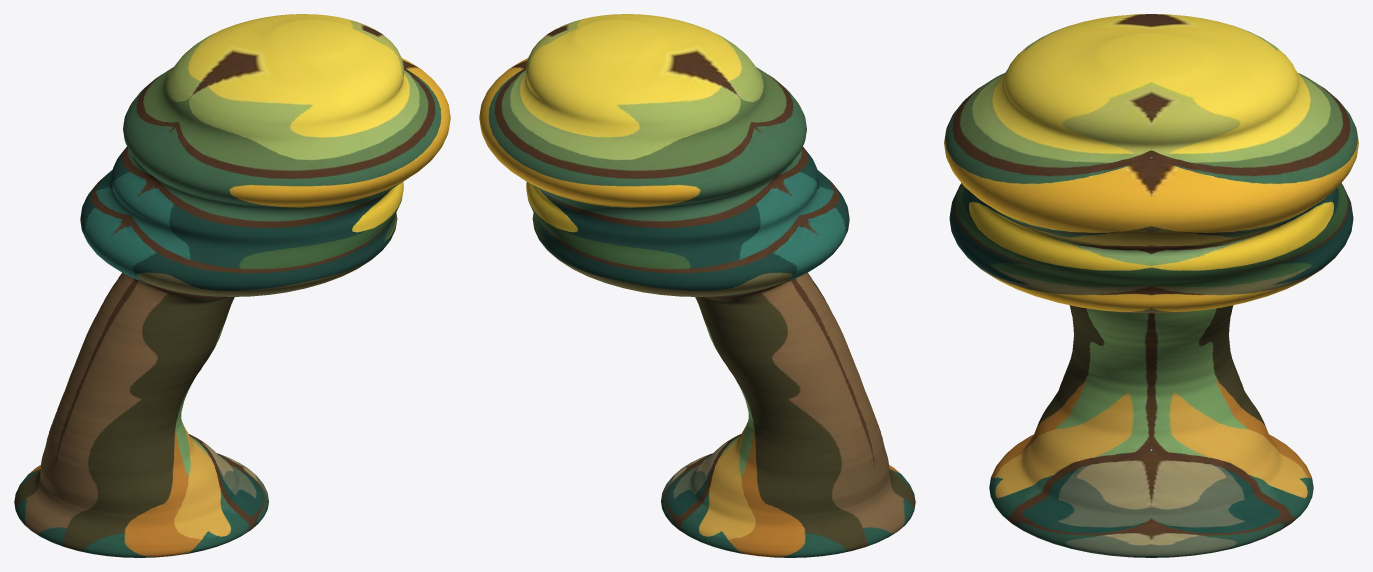
Rendered from stacked_cap_tree.glb.
3 renders of one model, left to right at view 1: azimuth 30°, elevation 25°; view 2: azimuth 150°, elevation 25°; view 3: azimuth 270°, elevation 25°, orthographic. The views are drawn at different scales.
Parts seen in each view (by area): view 1: stacked_cap_tree; view 2: stacked_cap_tree; view 3: stacked_cap_tree.
Boxes of the visible parts, x1,y1,x2,y2 form: stacked_cap_tree: [14, 14, 450, 557]; stacked_cap_tree: [479, 14, 915, 557]; stacked_cap_tree: [944, 14, 1358, 557].
Size of the model in its own units: 0.9978 by 1.04 by 0.7078.
1 material, 1 textured.
